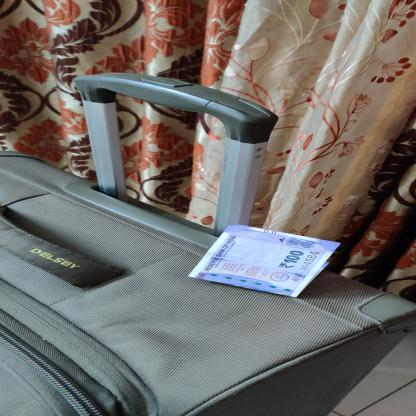New100Front: (185, 224, 342, 299)
